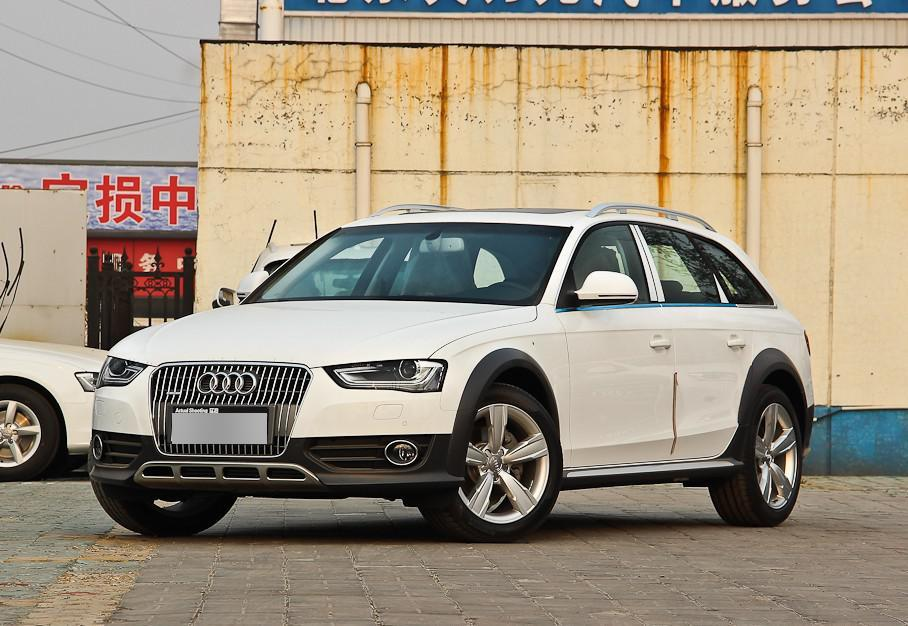Wagon: (85, 201, 814, 544)
